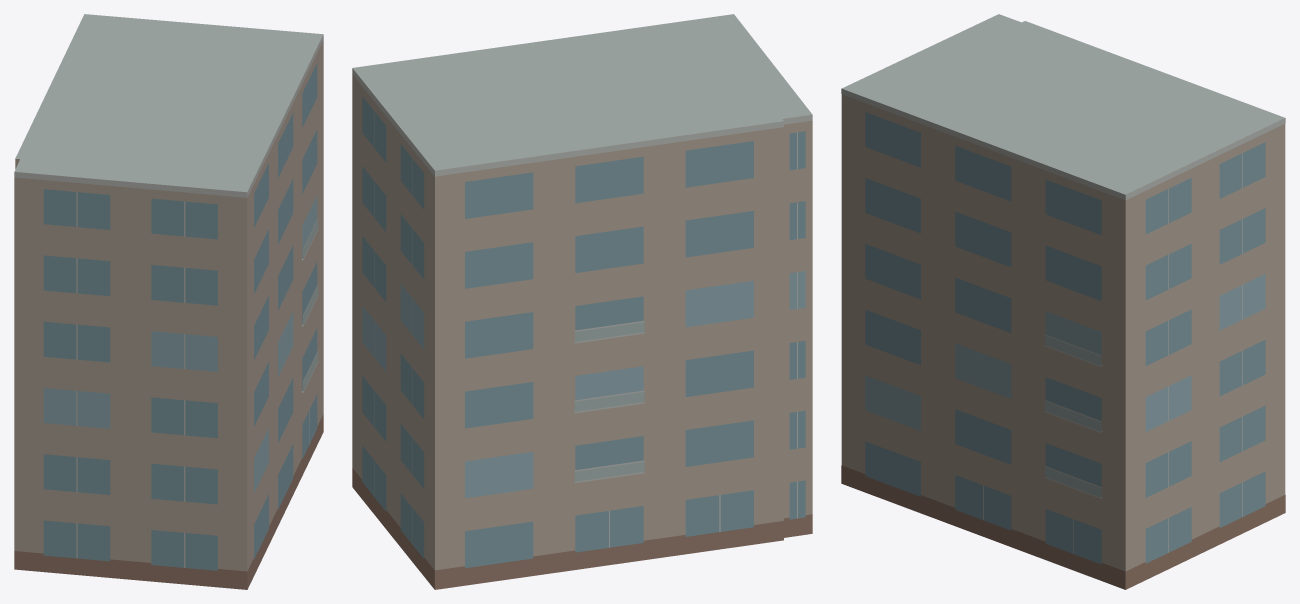
Rendered from survey-upis-32523602.glb.
3 views of the same model, side by side, from view 1: azimuth 30°, elevation 25°; view 2: azimuth 150°, elevation 25°; view 3: azimuth 270°, elevation 25° (orthographic). The views are drawn at different scales.
Parts seen in each view (by area): view 1: survey-upis-32523602.tmp; view 2: survey-upis-32523602.tmp; view 3: survey-upis-32523602.tmp.
Boxes of the visible parts, x1,y1,x2,y2 form: survey-upis-32523602.tmp: (14, 14, 323, 589); survey-upis-32523602.tmp: (352, 14, 812, 589); survey-upis-32523602.tmp: (841, 14, 1285, 589).
Bounding box in the file's own units: 16.99 × 17.3 × 17.62.
